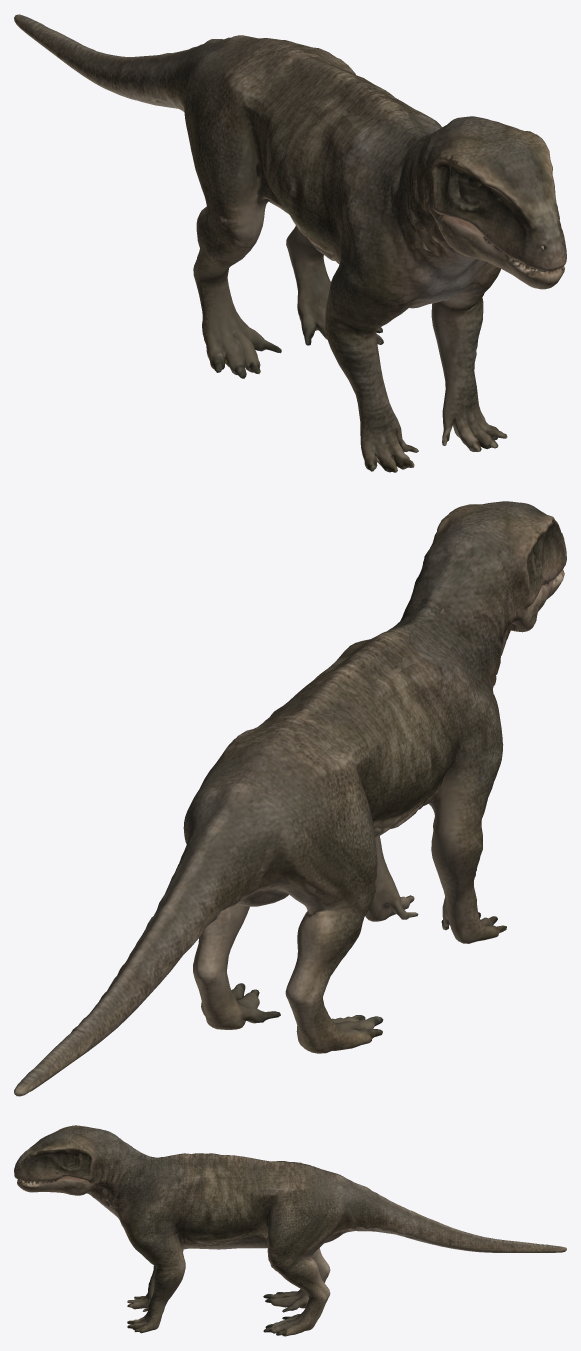
The model's file is exaeretodon.glb.
3 views of the same model, one above another, from view 1: azimuth 30°, elevation 25°; view 2: azimuth 150°, elevation 25°; view 3: azimuth 270°, elevation 25° (orthographic). The views are drawn at different scales.
Parts seen in each view (by area): view 1: exaeretodon_medio; view 2: exaeretodon_medio; view 3: exaeretodon_medio.
Boxes of the visible parts, x1=… form: exaeretodon_medio: x1=14, y1=14, x2=566, y2=472; exaeretodon_medio: x1=14, y1=501, x2=566, y2=1096; exaeretodon_medio: x1=14, y1=1125, x2=566, y2=1336.
Bounding box in the file's own units: 0.3219 × 0.6732 × 1.8.
Materials: 1 (1 with a texture image).
